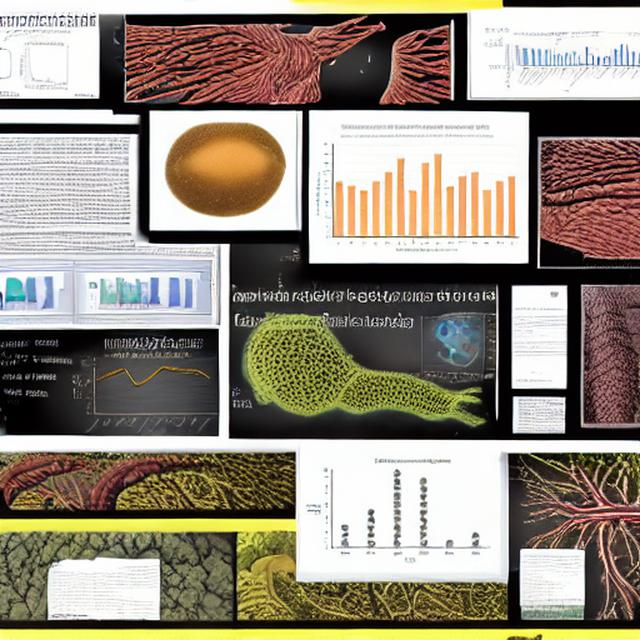Graph: (311, 130, 524, 258), (299, 454, 493, 567), (76, 352, 219, 436), (504, 31, 612, 93), (11, 39, 80, 91)
